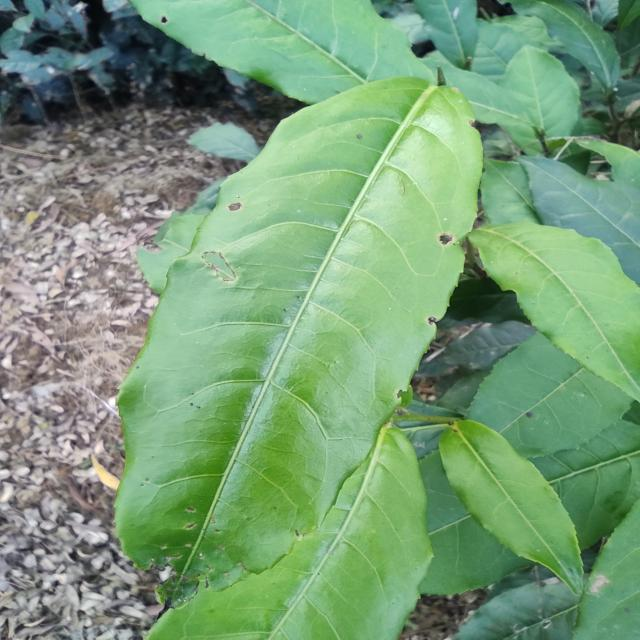Category D(7+ days, Not for Tea): (74, 60, 498, 616)
